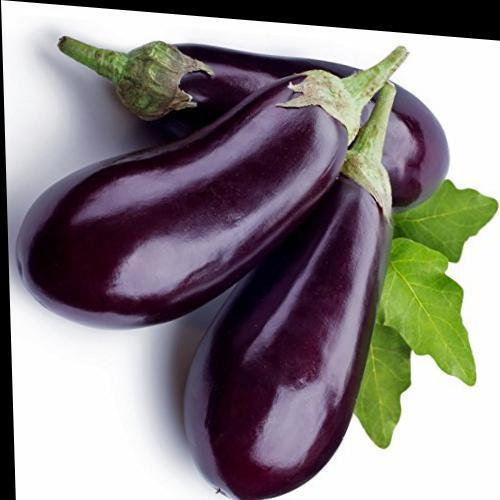eggplant: (70, 41, 462, 451)
